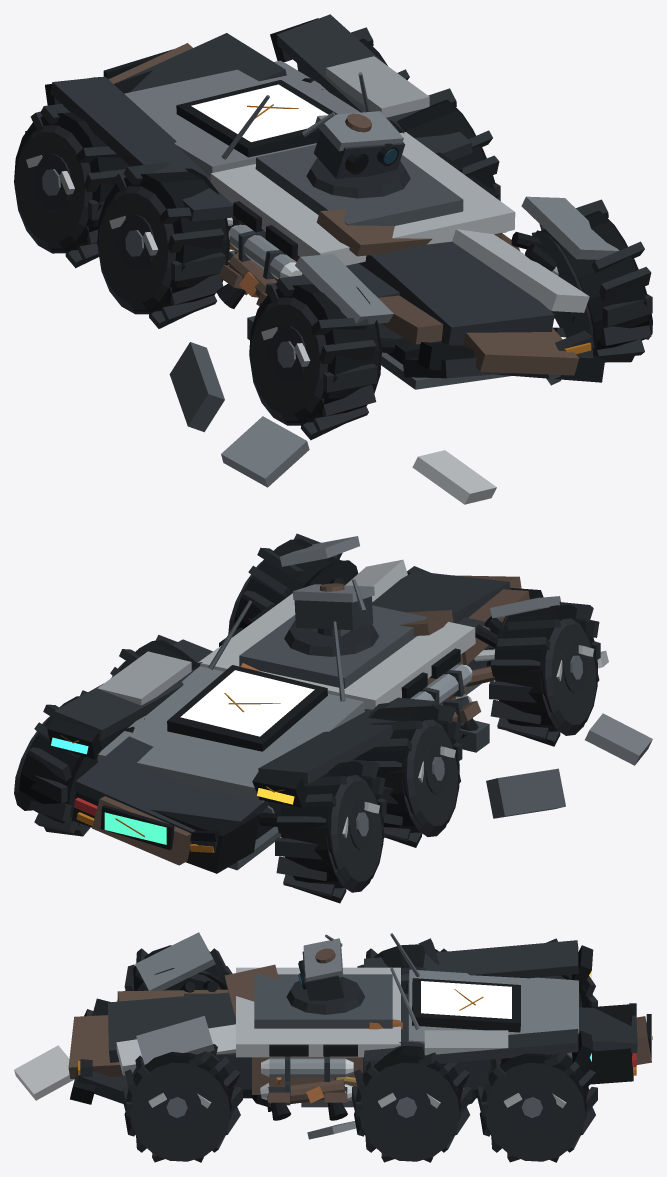
File: r47x_recon_rover_d2_lod0.glb
The picture shows the model from 3 angles, top to bottom: view 1: azimuth 30°, elevation 25°; view 2: azimuth 150°, elevation 25°; view 3: azimuth 270°, elevation 25°; orthographic projection. The views are drawn at different scales.
Parts seen in each view (by area): view 1: CHASSIS_ARMOR_BODY, ZONE_FRONT_BUMPER, WHEEL_ML, WHEEL_FL, ZONE_FLANK_NEG_X, WHEEL_RL, WHEEL_FR, ZONE_FLANK_POS_X, ZONE_REAR_PANEL, SENSOR_MAST_HEAD, DISPLAY_FDAI_TELEMETRY_PANEL, WHEEL_MR (+6 smaller); view 2: CHASSIS_ARMOR_BODY, ZONE_REAR_PANEL, WHEEL_FL, WHEEL_RL, WHEEL_ML, ZONE_FRONT_BUMPER, ZONE_FLANK_NEG_X, WHEEL_RR, ZONE_FLANK_POS_X, DISPLAY_FDAI_TELEMETRY_PANEL, WHEEL_FR, SENSOR_MAST_HEAD (+8 smaller); view 3: CHASSIS_ARMOR_BODY, ZONE_FRONT_BUMPER, WHEEL_MR, WHEEL_FR, WHEEL_RR, ZONE_FLANK_POS_X, ZONE_FLANK_NEG_X, ZONE_REAR_PANEL, DISPLAY_FDAI_TELEMETRY_PANEL, SENSOR_MAST_HEAD, DEBRIS_FRONT_BEAK, DEBRIS_FENDER_POS_X (+6 smaller).
Boxes of the visible parts, x1=… form: CHASSIS_ARMOR_BODY: x1=124, y1=60, x2=515, y2=364; ZONE_FRONT_BUMPER: x1=295, y1=196, x2=619, y2=389; WHEEL_ML: x1=97, y1=162, x2=229, y2=328; WHEEL_FL: x1=249, y1=275, x2=381, y2=440; ZONE_FLANK_NEG_X: x1=45, y1=76, x2=303, y2=297; WHEEL_RL: x1=14, y1=103, x2=130, y2=268; WHEEL_FR: x1=532, y1=199, x2=652, y2=362; ZONE_FLANK_POS_X: x1=270, y1=14, x2=507, y2=239; ZONE_REAR_PANEL: x1=103, y1=33, x2=286, y2=93; SENSOR_MAST_HEAD: x1=302, y1=111, x2=405, y2=178; DISPLAY_FDAI_TELEMETRY_PANEL: x1=191, y1=84, x2=328, y2=142; WHEEL_MR: x1=390, y1=88, x2=500, y2=200; CHASSIS_ARMOR_BODY: x1=97, y1=593, x2=488, y2=839; ZONE_REAR_PANEL: x1=72, y1=736, x2=281, y2=873; WHEEL_FL: x1=489, y1=602, x2=600, y2=746; WHEEL_RL: x1=275, y1=759, x2=386, y2=903; WHEEL_ML: x1=356, y1=703, x2=462, y2=847; ZONE_FRONT_BUMPER: x1=280, y1=536, x2=560, y2=694; ZONE_FLANK_NEG_X: x1=252, y1=621, x2=472, y2=807; WHEEL_RR: x1=14, y1=690, x2=135, y2=836; ZONE_FLANK_POS_X: x1=47, y1=600, x2=276, y2=759; DISPLAY_FDAI_TELEMETRY_PANEL: x1=180, y1=670, x2=314, y2=736; WHEEL_FR: x1=228, y1=533, x2=358, y2=633; SENSOR_MAST_HEAD: x1=293, y1=579, x2=374, y2=636; CHASSIS_ARMOR_BODY: x1=184, y1=964, x2=578, y2=1107; ZONE_FRONT_BUMPER: x1=68, y1=932, x2=235, y2=1104; WHEEL_MR: x1=352, y1=1041, x2=472, y2=1162; WHEEL_FR: x1=122, y1=1051, x2=242, y2=1162; WHEEL_RR: x1=477, y1=1053, x2=597, y2=1162; ZONE_FLANK_POS_X: x1=252, y1=967, x2=593, y2=1106; ZONE_FLANK_NEG_X: x1=364, y1=933, x2=593, y2=989; ZONE_REAR_PANEL: x1=579, y1=1003, x2=651, y2=1084; DISPLAY_FDAI_TELEMETRY_PANEL: x1=421, y1=981, x2=511, y2=1018; SENSOR_MAST_HEAD: x1=298, y1=934, x2=344, y2=1000; DEBRIS_FRONT_BEAK: x1=14, y1=1045, x2=74, y2=1100; DEBRIS_FENDER_POS_X: x1=424, y1=1030, x2=508, y2=1055.
Bounding box in the file's own units: 2.97 × 1.65 × 5.18.
